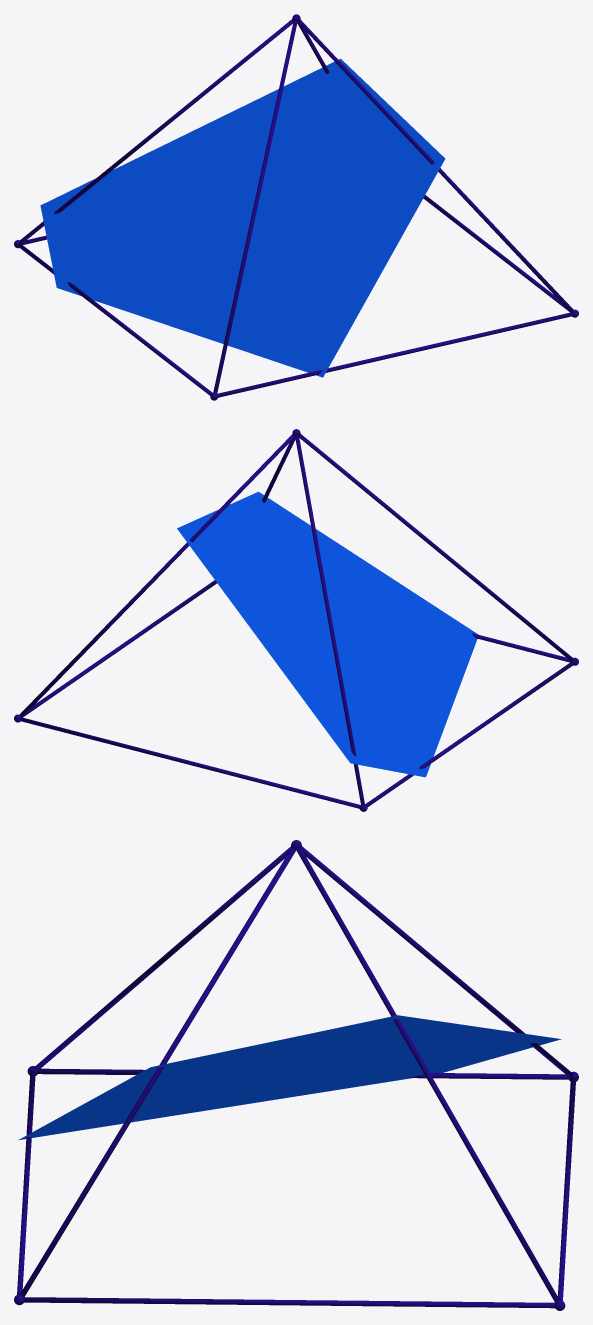
Rendered from матан.glb.
3 views of the same model, one above another, from view 1: azimuth 30°, elevation 25°; view 2: azimuth 150°, elevation 25°; view 3: azimuth 270°, elevation 25° (orthographic). The views are drawn at different scales.
Visible parts, largest first — view 1: Плоскость; view 2: Плоскость; view 3: Плоскость.
Boxes of the visible parts, x1,y1,x2,y2 form: Плоскость: (14, 14, 578, 400); Плоскость: (14, 429, 578, 811); Плоскость: (14, 840, 578, 1310).
Bounding box in the file's own units: 2.09 × 1.44 × 2.09.
